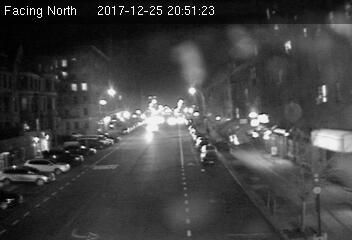car: (199, 151, 219, 165)
